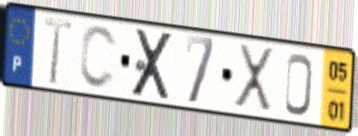0: (283, 52, 315, 118)
7: (183, 32, 216, 109)
C: (77, 23, 120, 93)
T: (42, 14, 75, 88)
X: (129, 27, 177, 103), (232, 41, 276, 117)
